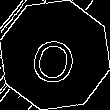O_N: (28, 25, 82, 85)
